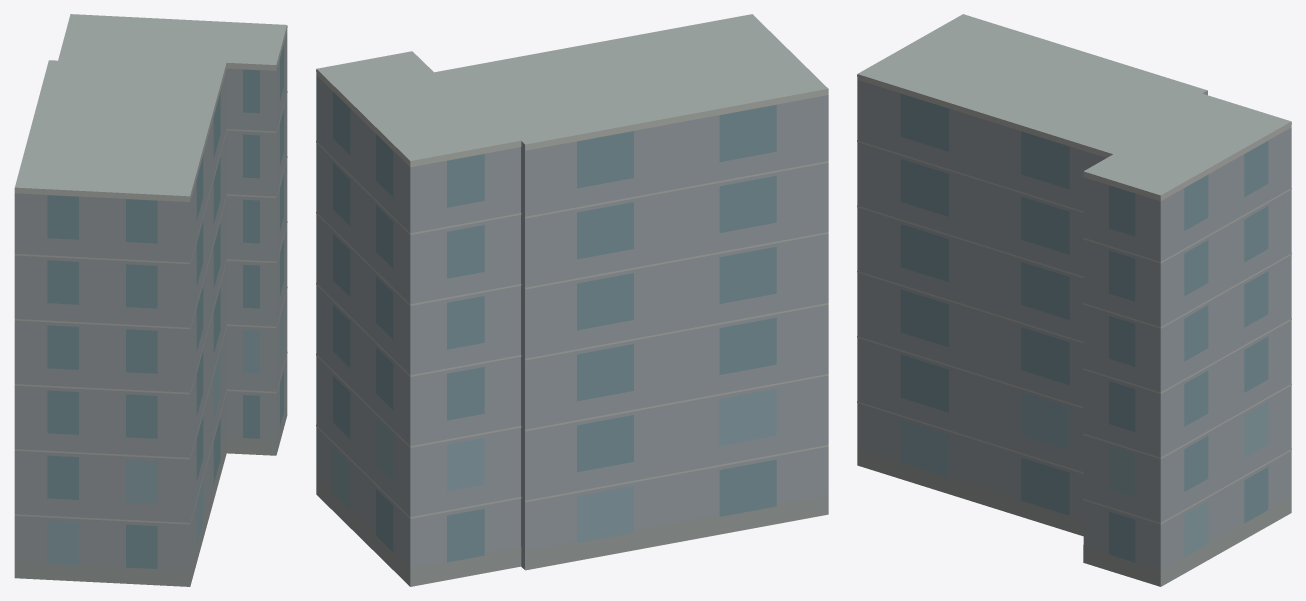
Rendered from survey-upis-32639373.glb.
3 renders of one model, left to right at view 1: azimuth 30°, elevation 25°; view 2: azimuth 150°, elevation 25°; view 3: azimuth 270°, elevation 25°, orthographic. The views are drawn at different scales.
Visible parts, largest first — view 1: survey-upis-32639373.tmp; view 2: survey-upis-32639373.tmp; view 3: survey-upis-32639373.tmp.
Part boxes in pixels (bbox=[...]): survey-upis-32639373.tmp: bbox=[14, 14, 287, 586]; survey-upis-32639373.tmp: bbox=[316, 14, 828, 586]; survey-upis-32639373.tmp: bbox=[857, 14, 1291, 586].
Bounding box in the file's own units: 16.53 × 16.6 × 16.72.
